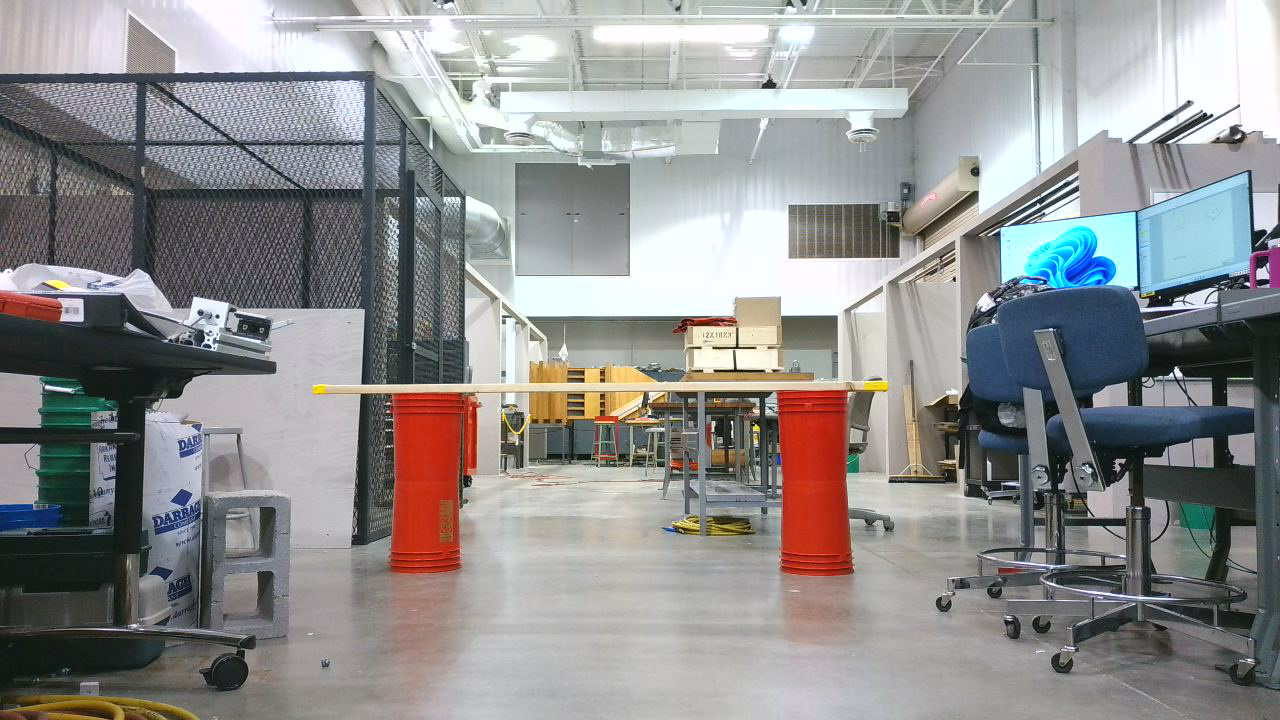red_bucket_arch: (387, 382, 864, 580)
